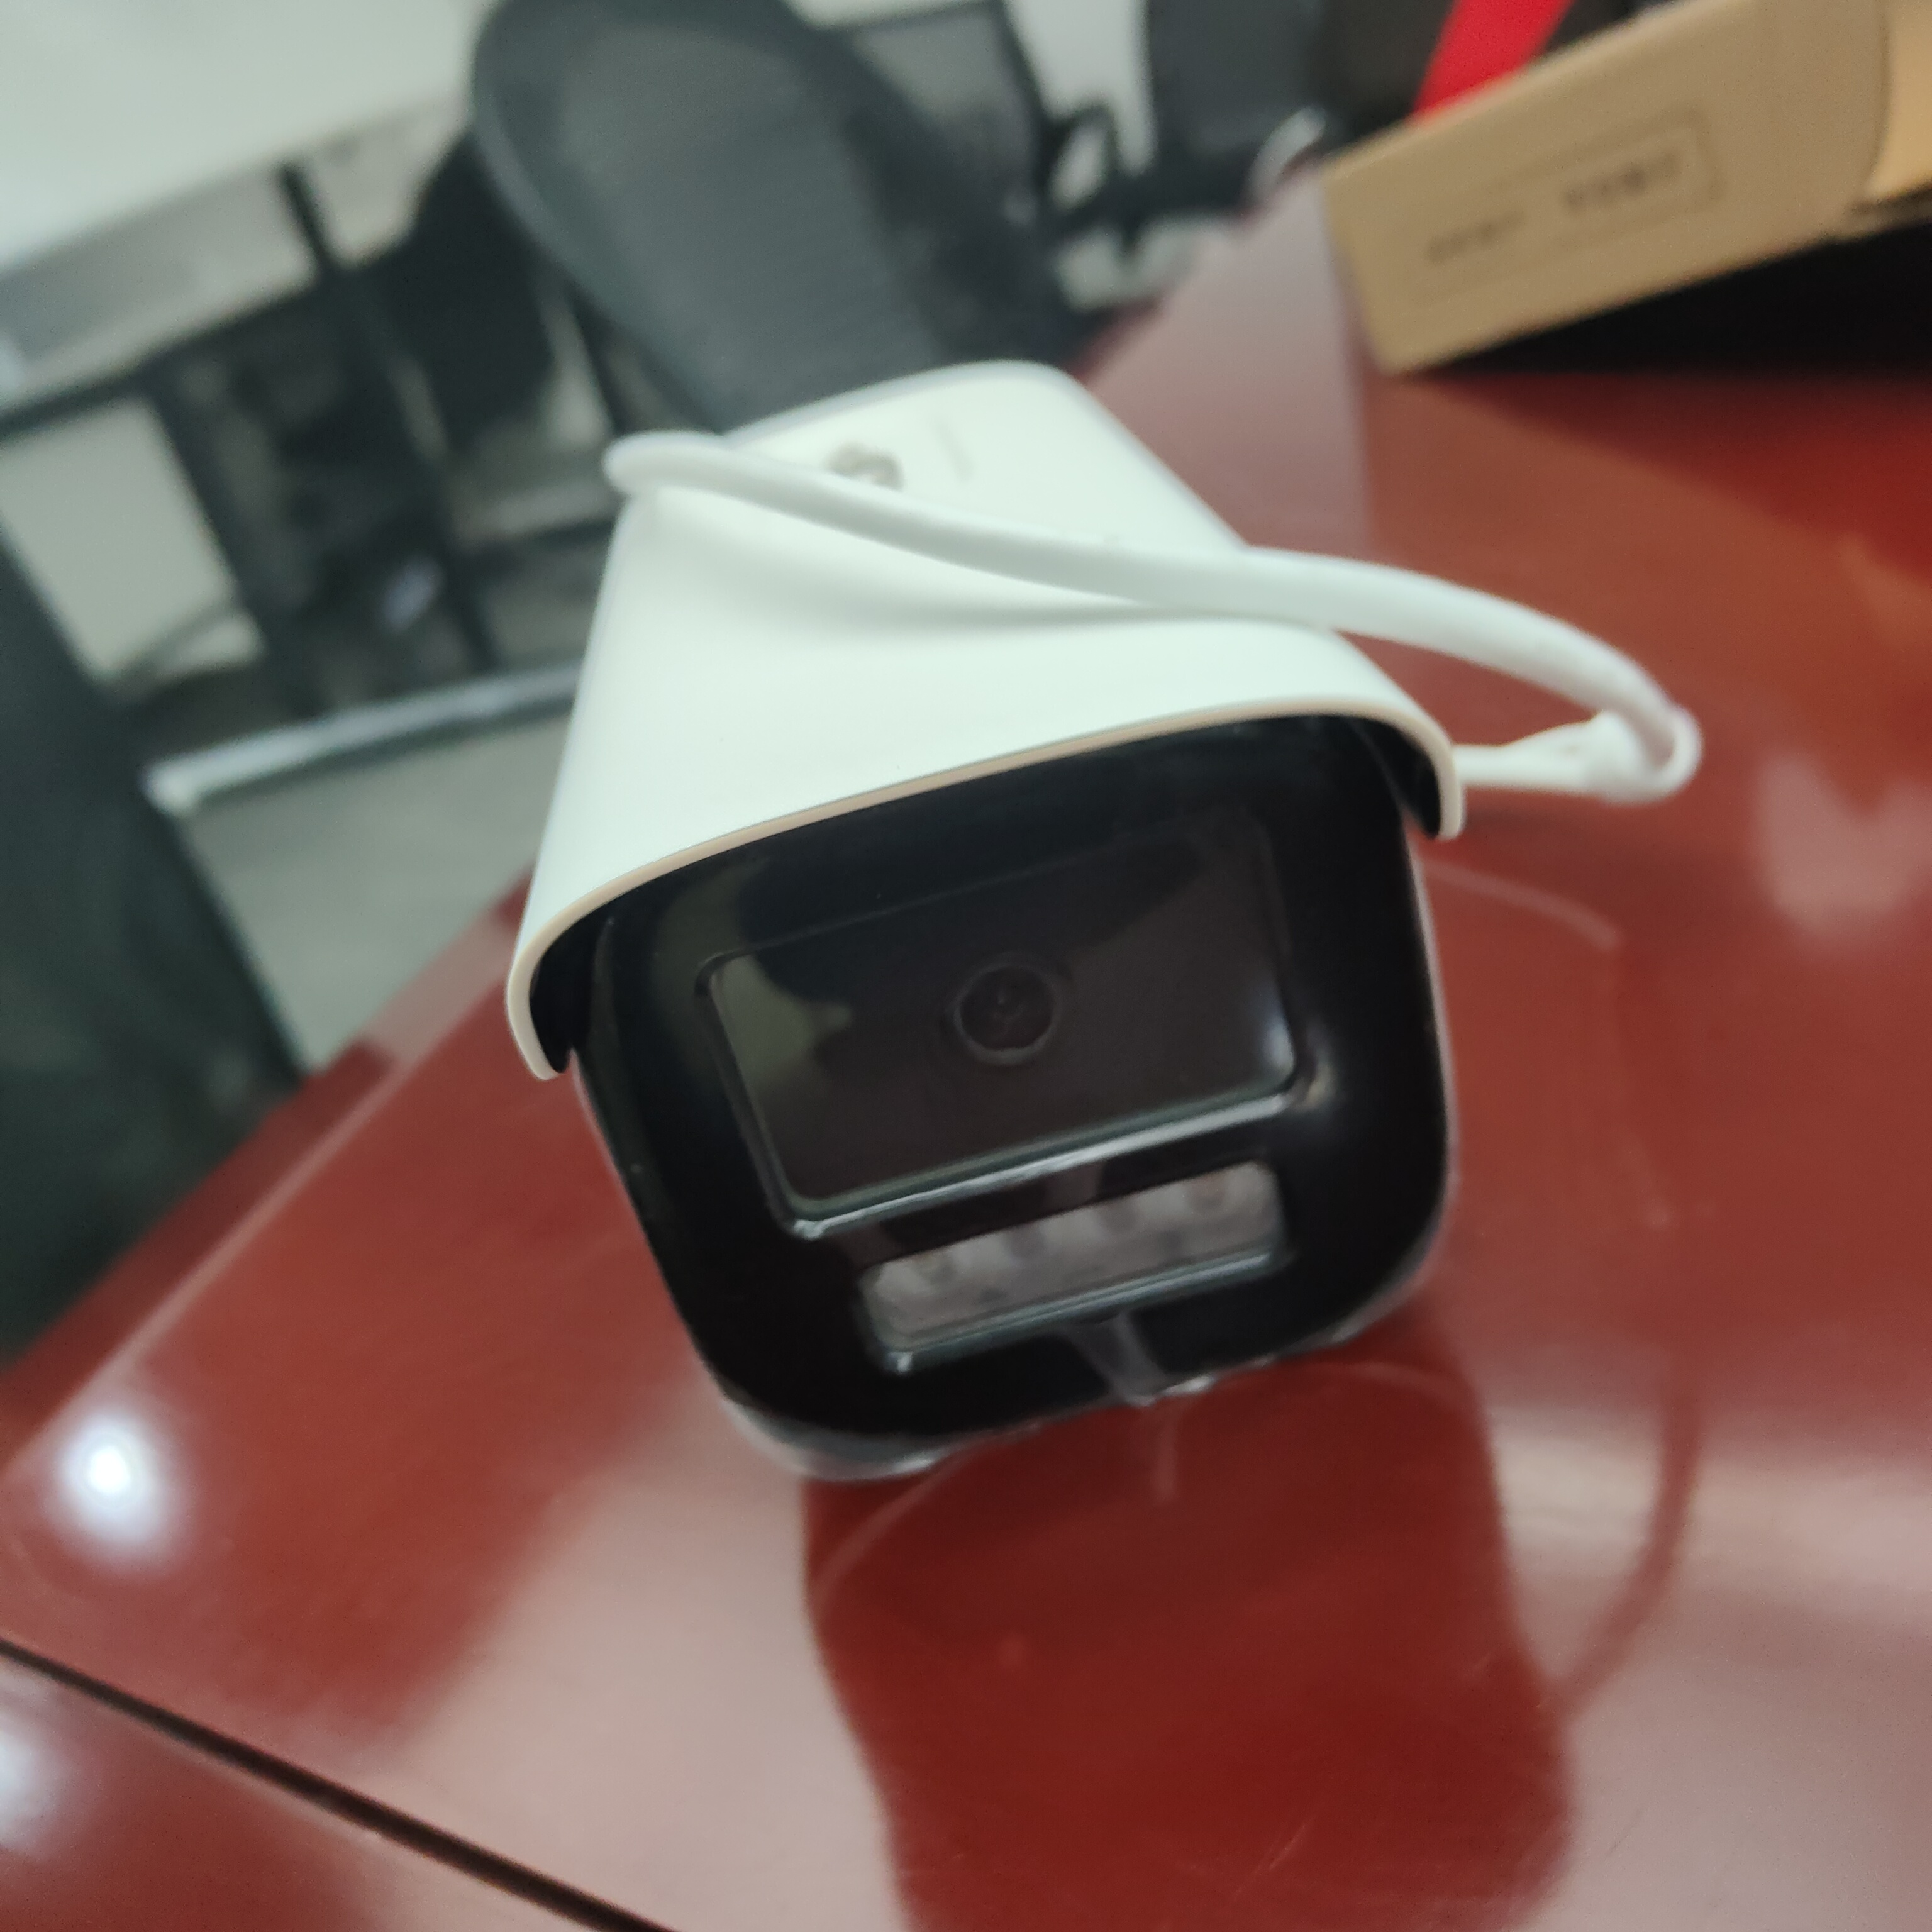hkws: (540, 391, 1605, 1486)
